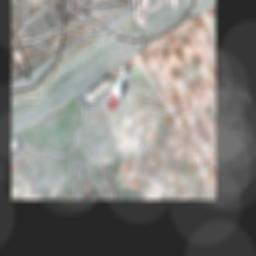Woodpecker: (87, 54, 151, 119)
